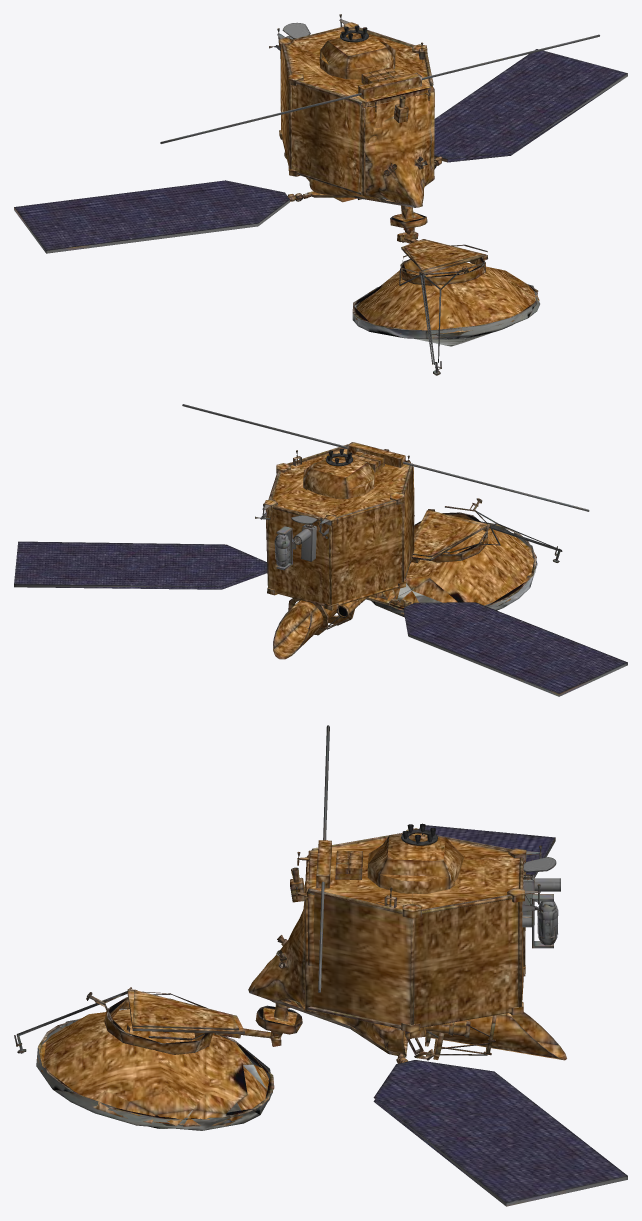
Rendered from корабль-орбитер.glb.
3 renders of one model, top to bottom at view 1: azimuth 30°, elevation 25°; view 2: azimuth 150°, elevation 25°; view 3: azimuth 270°, elevation 25°, orthographic. The views are drawn at different scales.
Visible parts, largest first — view 1: mro_proxy7, mro_proxy6, mro_proxy5; view 2: mro_proxy7, mro_proxy6, mro_proxy3, mro_proxy5; view 3: mro_proxy7, mro_proxy6, mro_proxy3, mro_proxy5, mro_proxy2.
Part boxes in pixels (x1,y1,x2,y2): mro_proxy7: [14, 27, 627, 375]; mro_proxy6: [269, 14, 433, 122]; mro_proxy5: [279, 22, 436, 207]; mro_proxy7: [14, 404, 627, 696]; mro_proxy6: [259, 442, 412, 561]; mro_proxy3: [273, 598, 401, 659]; mro_proxy5: [267, 454, 414, 617]; mro_proxy7: [14, 725, 627, 1206]; mro_proxy6: [290, 823, 550, 938]; mro_proxy3: [270, 1000, 566, 1060]; mro_proxy5: [249, 834, 560, 1063]; mro_proxy2: [405, 1026, 495, 1060].
Bounding box in the file's own units: 2.3 × 0.837 × 1.56.
2 materials, 2 textured.
